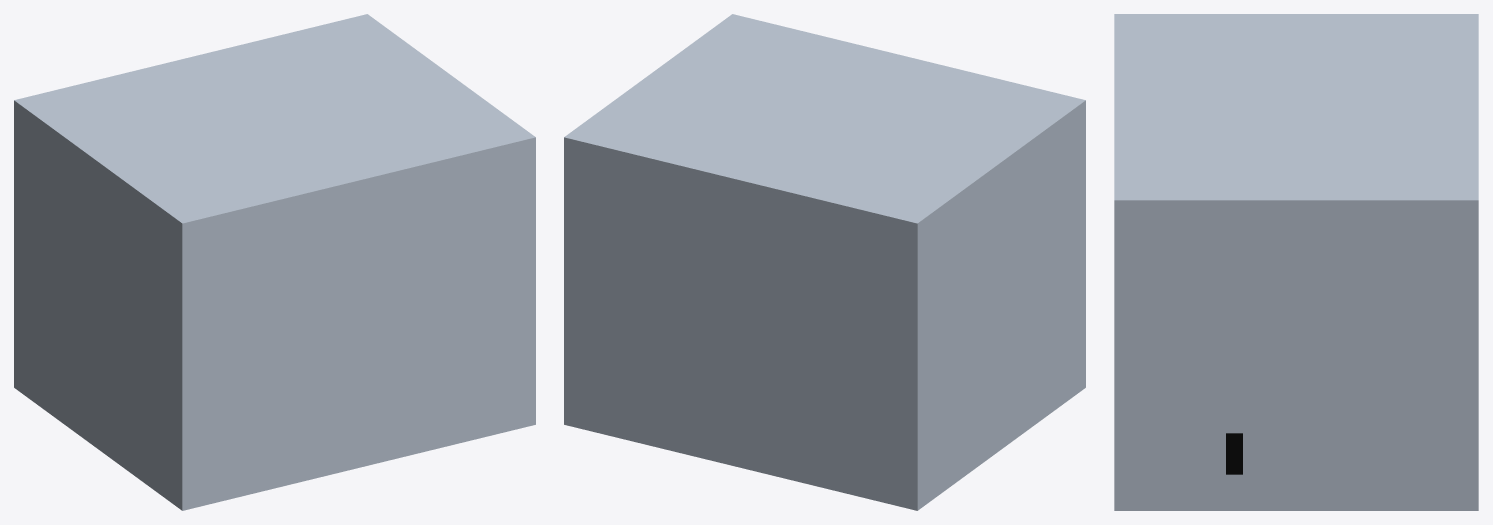
The model's file is bhop_squareblock.glb.
The picture shows the model from 3 angles, left to right: view 1: azimuth 30°, elevation 25°; view 2: azimuth 150°, elevation 25°; view 3: azimuth 270°, elevation 25°; orthographic projection. The views are drawn at different scales.
Visible parts, largest first — view 1: bhop_squareblock_sky; view 2: bhop_squareblock_sky; view 3: bhop_squareblock_sky, bhop_squareblock_static.
Part boxes in pixels (x1,y1,x2,y2): bhop_squareblock_sky: [14, 14, 535, 510]; bhop_squareblock_sky: [564, 14, 1085, 510]; bhop_squareblock_sky: [1114, 14, 1478, 510]; bhop_squareblock_static: [1226, 433, 1242, 474].
Bounding box in the file's own units: 66.95 × 52.02 × 55.27.
Materials: 28 (27 with a texture image).
